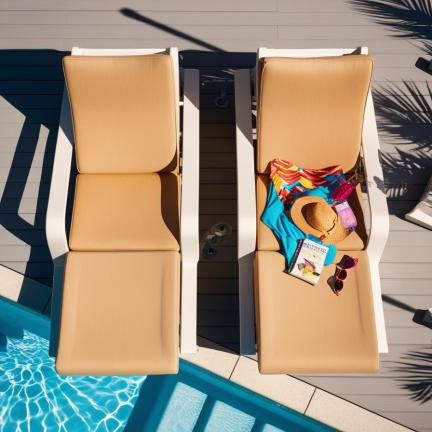empty chair: (46, 47, 199, 375)
occupied chair: (235, 48, 389, 374)
